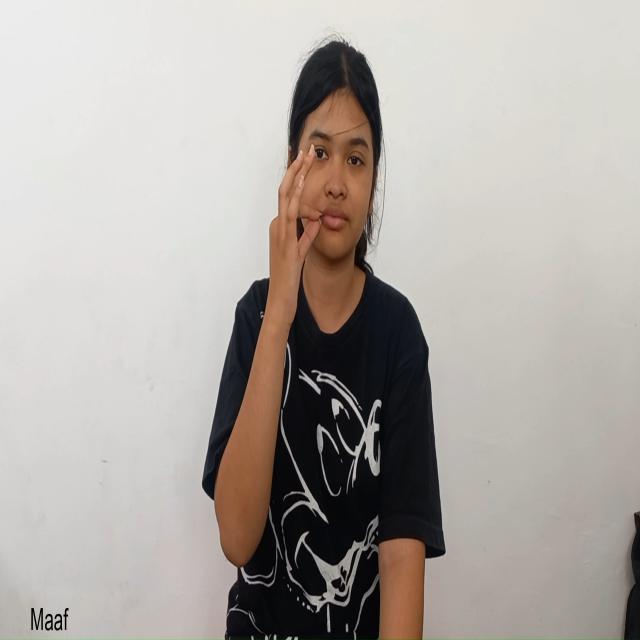Maaf -BISINDO-: (247, 24, 401, 362)
